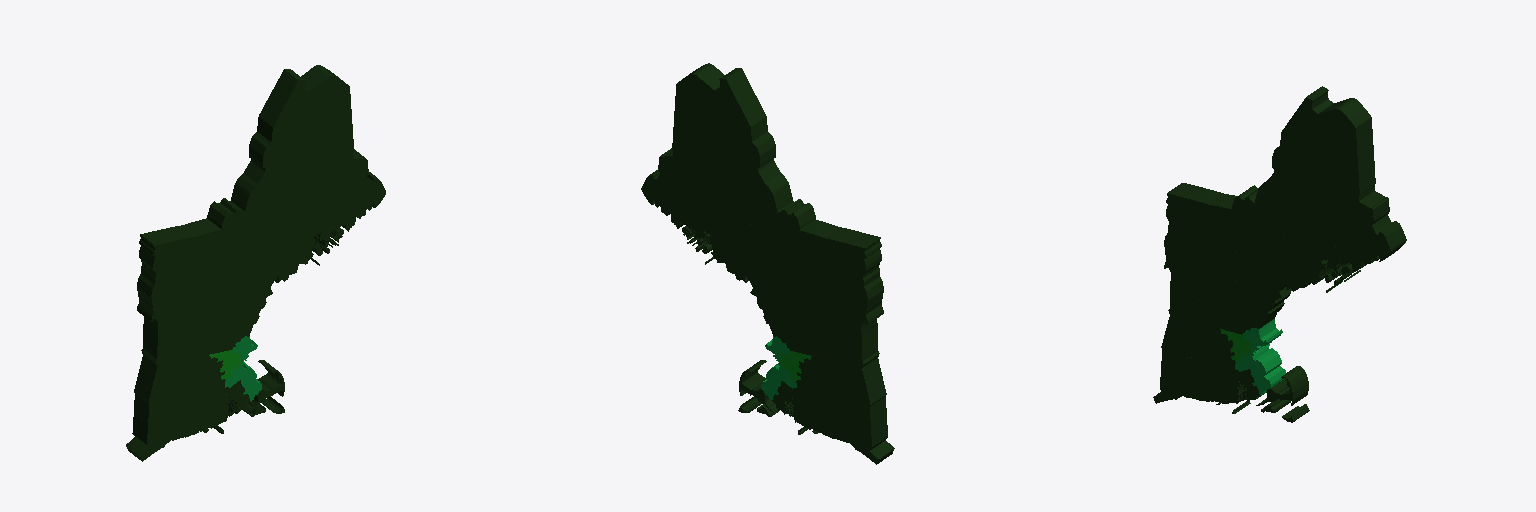
The model's file is colortest.obj.
3 views of the same model, side by side, from view 1: azimuth 30°, elevation 25°; view 2: azimuth 150°, elevation 25°; view 3: azimuth 330°, elevation 25° (orthographic).
Visible parts, largest first — view 1: Aroostook__ME, Somerset__ME, Piscataquis__ME, Penobscot__ME, Washington__ME, Coos__NH, Franklin__ME, Oxford__ME, Hancock__ME, Grafton__NH, Worcester__MA, Franklin__VT (+16 smaller); view 2: Aroostook__ME, Somerset__ME, Piscataquis__ME, Penobscot__ME, Washington__ME, Coos__NH, Franklin__ME, Oxford__ME, Hancock__ME, Grafton__NH, Worcester__MA, Orleans__VT (+13 smaller); view 3: Aroostook__ME, Washington__ME, Piscataquis__ME, Somerset__ME, Penobscot__ME, Oxford__ME, Hancock__ME, Coos__NH, Grafton__NH, Franklin__ME, Worcester__MA, Plymouth__MA (+9 smaller).
Part boxes in pixels (x1,y1,x2,y2): Aroostook__ME: (258, 65, 353, 169); Somerset__ME: (241, 123, 302, 235); Piscataquis__ME: (280, 123, 319, 211); Penobscot__ME: (299, 129, 349, 225); Washington__ME: (345, 150, 385, 225); Coos__NH: (207, 200, 239, 275); Franklin__ME: (232, 176, 278, 246); Oxford__ME: (223, 198, 267, 288); Hancock__ME: (318, 184, 351, 247); Grafton__NH: (192, 264, 227, 311); Worcester__MA: (194, 355, 225, 392); Franklin__VT: (146, 228, 183, 261); Aroostook__ME: (672, 63, 766, 168); Somerset__ME: (721, 124, 782, 234); Piscataquis__ME: (705, 121, 742, 210); Penobscot__ME: (676, 127, 724, 224); Washington__ME: (641, 148, 680, 222); Coos__NH: (782, 200, 815, 276); Franklin__ME: (744, 176, 792, 245); Oxford__ME: (755, 199, 800, 289); Hancock__ME: (674, 181, 708, 245); Grafton__NH: (794, 266, 828, 313); Worcester__MA: (796, 356, 826, 393); Orleans__VT: (813, 224, 851, 262); Aroostook__ME: (1281, 86, 1375, 202); Washington__ME: (1351, 191, 1406, 268); Piscataquis__ME: (1288, 141, 1326, 224); Somerset__ME: (1264, 138, 1310, 247); Penobscot__ME: (1307, 157, 1355, 248); Oxford__ME: (1246, 191, 1276, 280); Hancock__ME: (1326, 223, 1360, 281); Coos__NH: (1224, 185, 1257, 259); Grafton__NH: (1203, 240, 1237, 284); Franklin__ME: (1255, 183, 1287, 248); Worcester__MA: (1205, 325, 1235, 368); Plymouth__MA: (1250, 348, 1285, 395).
Bounding box in the file's own units: 846 × 1154 × 118.